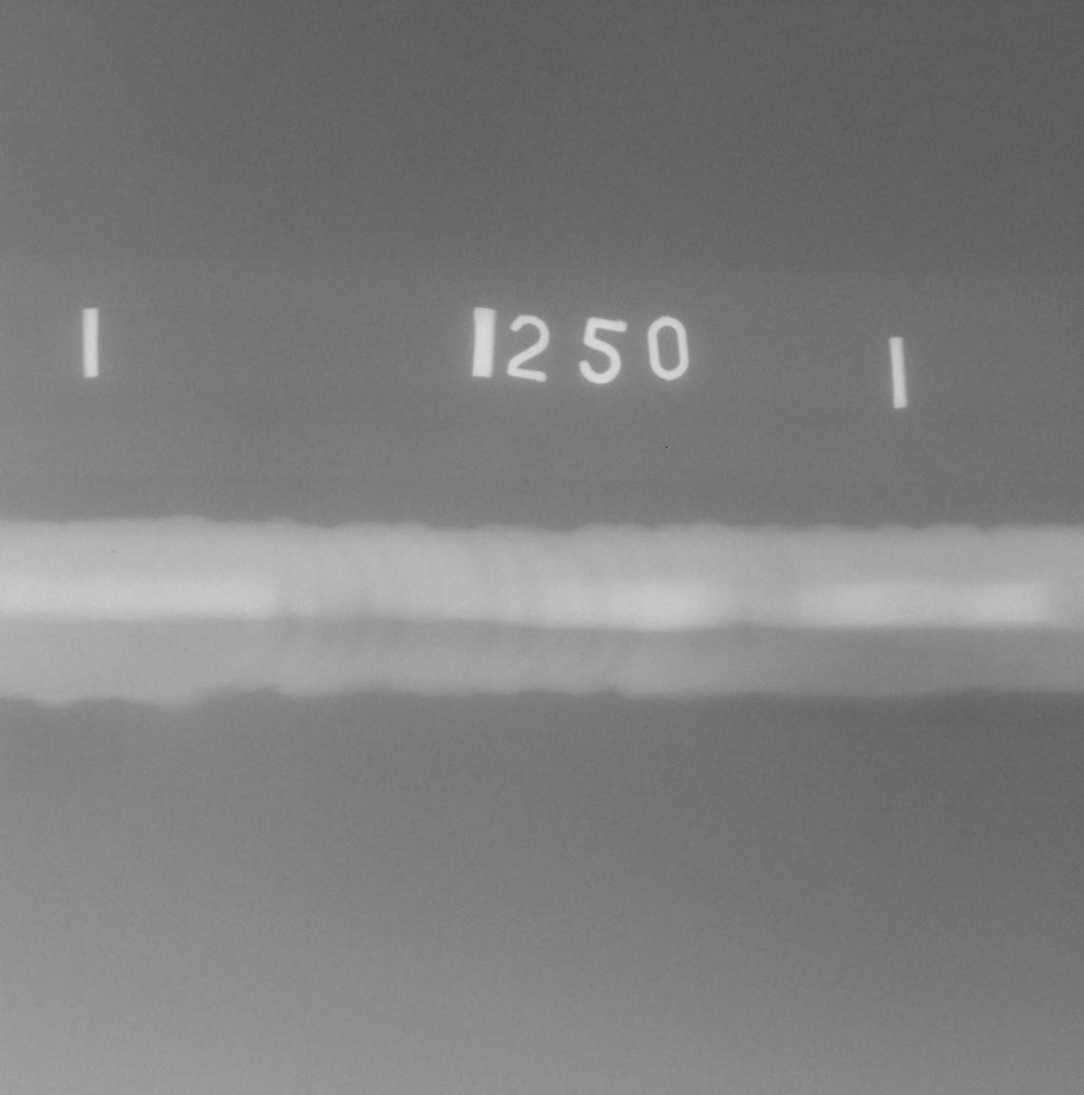Pore/Porosity: (111, 550, 115, 553)
